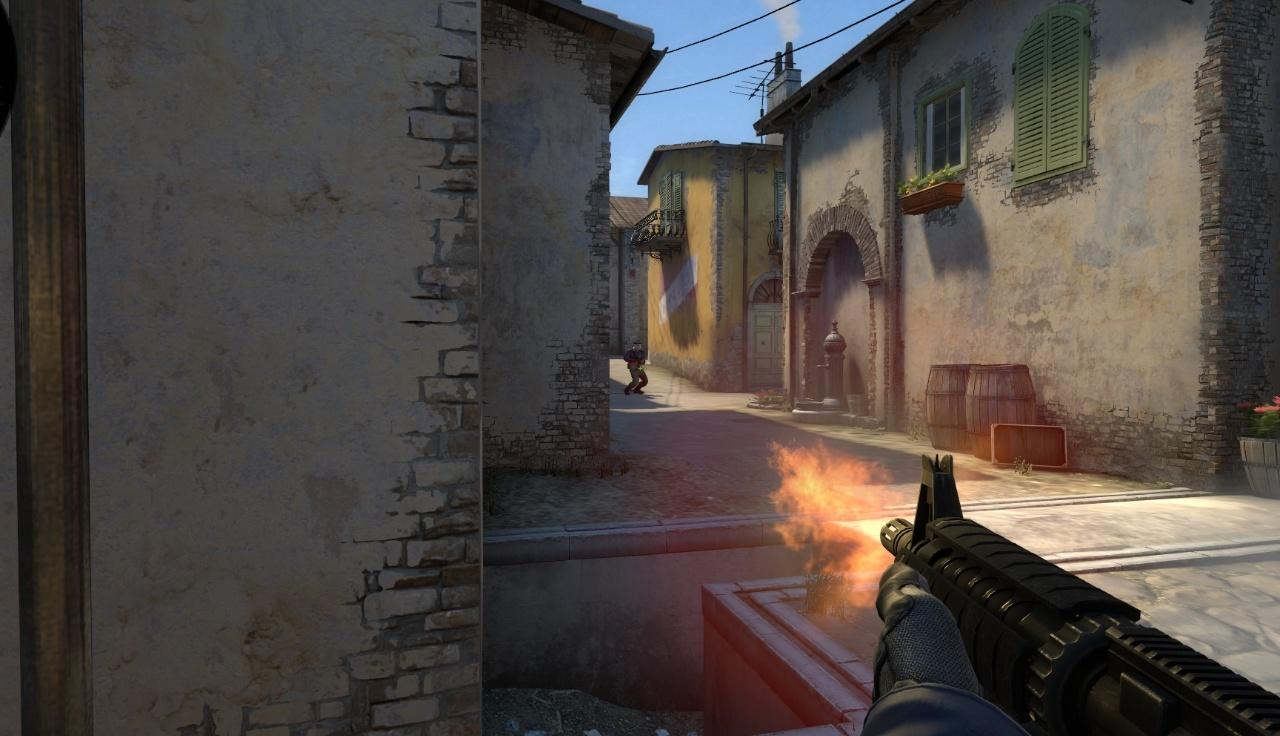rifle: (872, 442, 1280, 736)
tt: (626, 340, 648, 394)
tthead: (633, 340, 642, 351)
